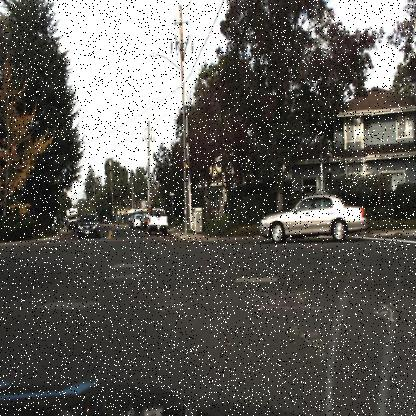car: (257, 189, 369, 243), (147, 204, 172, 238), (146, 203, 170, 232), (79, 213, 99, 238)
trafficLight-Red: (183, 154, 191, 178), (184, 156, 190, 183)
truck: (64, 205, 80, 231)
